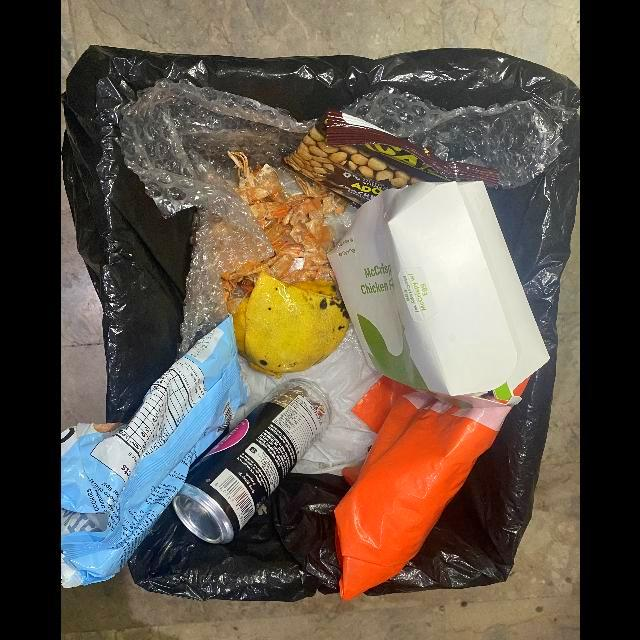aluminum: (171, 378, 330, 545)
cardboard: (326, 181, 550, 409)
food_wrapper: (60, 316, 249, 590), (283, 108, 499, 209)
left_over_food: (219, 151, 346, 315)
plastic_bag: (118, 78, 318, 358), (333, 376, 531, 602), (343, 86, 566, 189)
